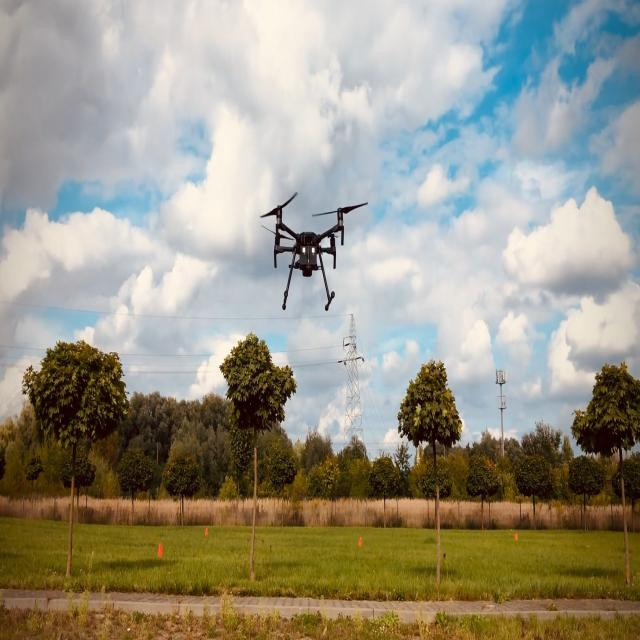drone: (259, 191, 368, 312)
